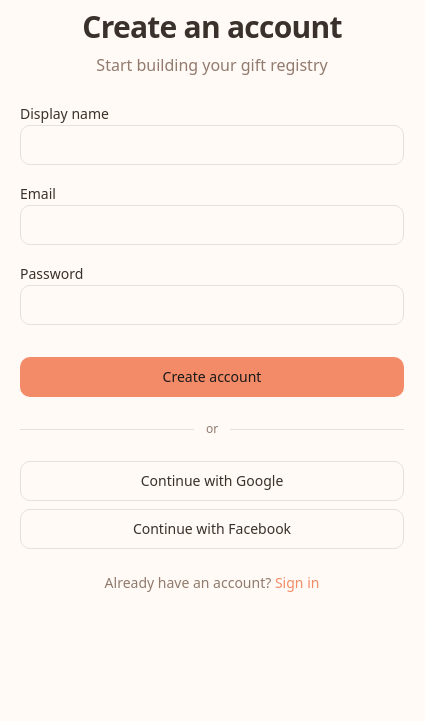
it: RegisterPage › shows validation errors when submitting empty form
Click the button "Create account" at coordinates (212, 377), box [20,357,404,397]
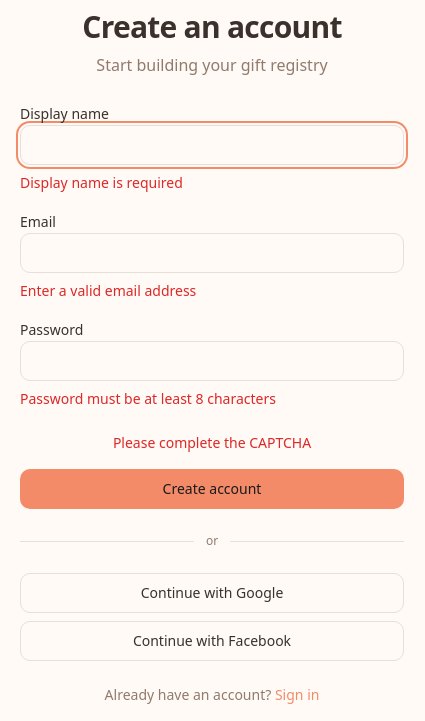
Expected: the text "Display name is required" is shown, [20,173,183,192]
